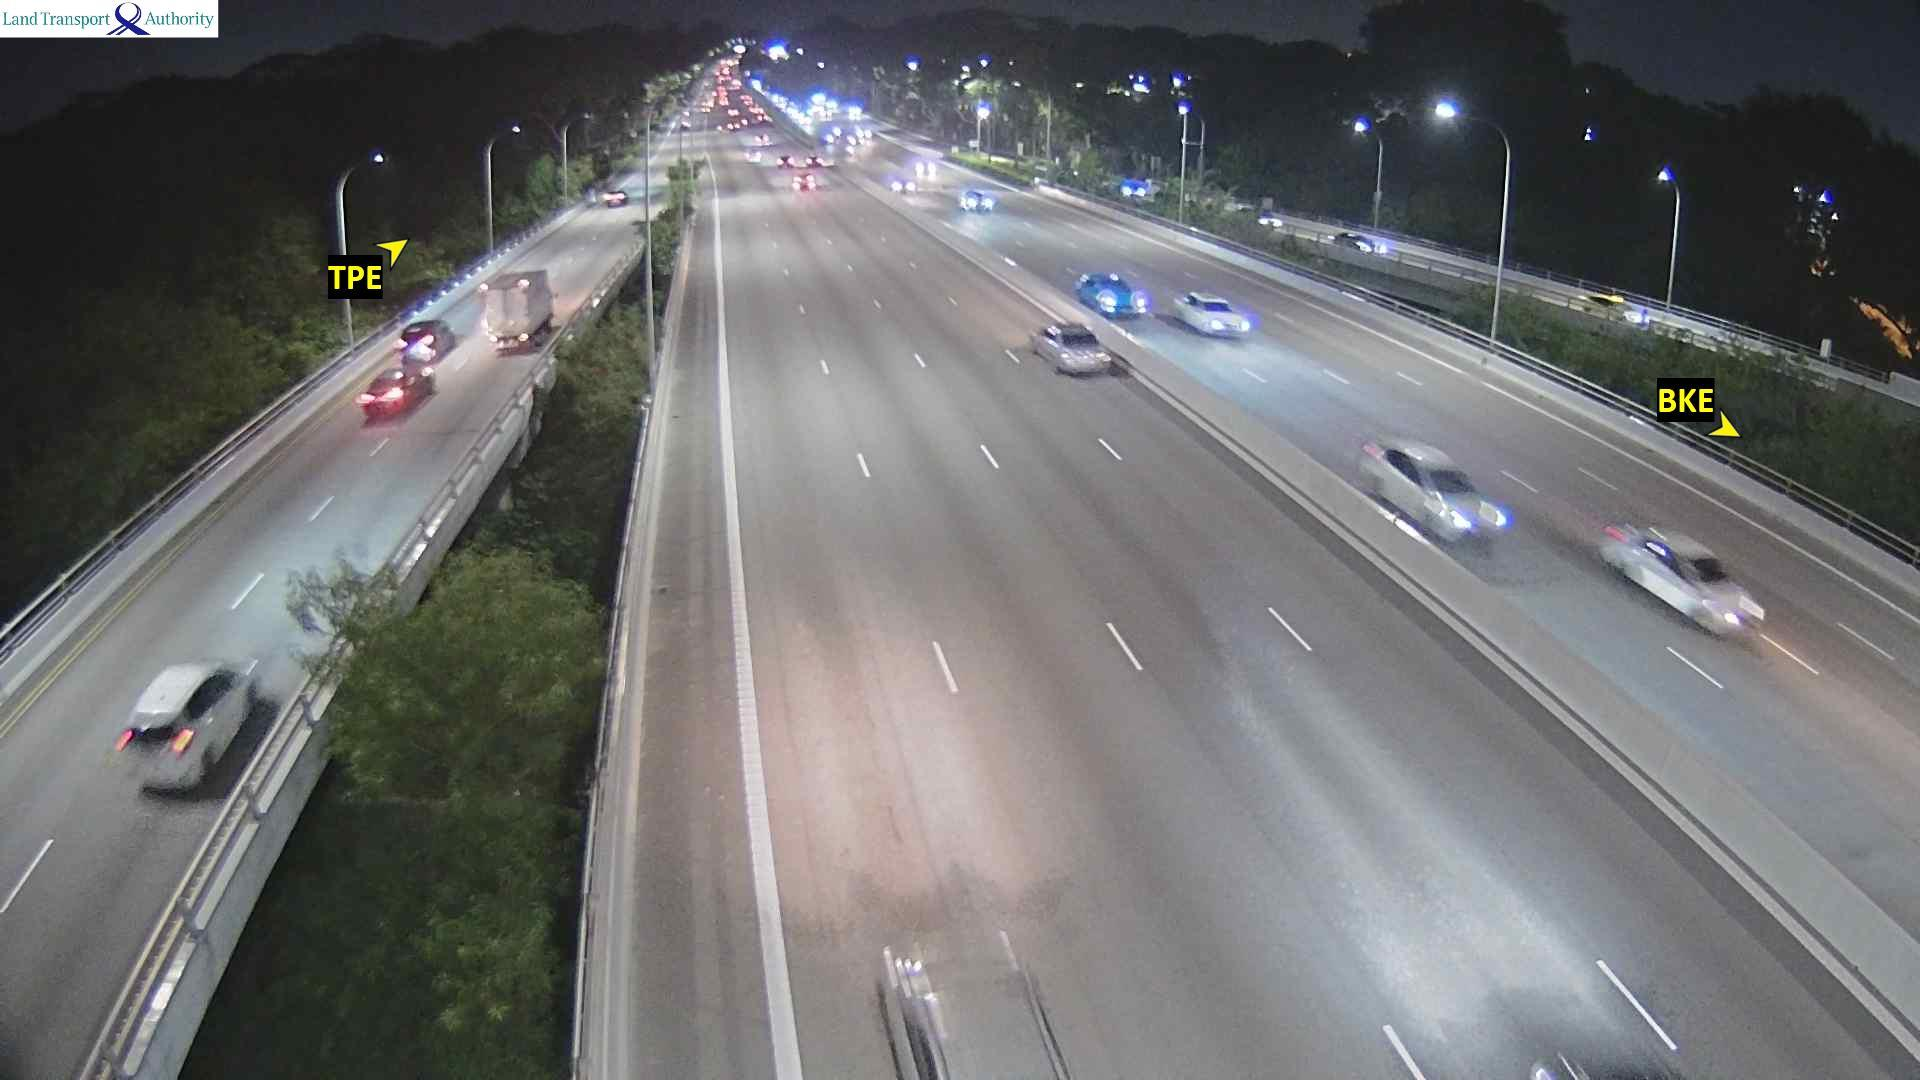cars: (113, 654, 261, 796), (1596, 520, 1764, 640), (1356, 435, 1513, 546), (1029, 320, 1112, 375), (355, 365, 434, 417), (1171, 290, 1250, 338), (1075, 270, 1149, 318), (1580, 284, 1647, 327), (396, 318, 455, 367), (1331, 229, 1383, 255), (957, 187, 996, 212), (909, 158, 944, 177), (1120, 177, 1149, 198), (1255, 208, 1283, 228), (793, 171, 819, 191), (889, 175, 916, 193), (601, 189, 626, 207), (806, 153, 833, 167), (744, 148, 761, 164), (777, 153, 793, 167), (753, 133, 771, 144)
trucks: (477, 268, 555, 348)
